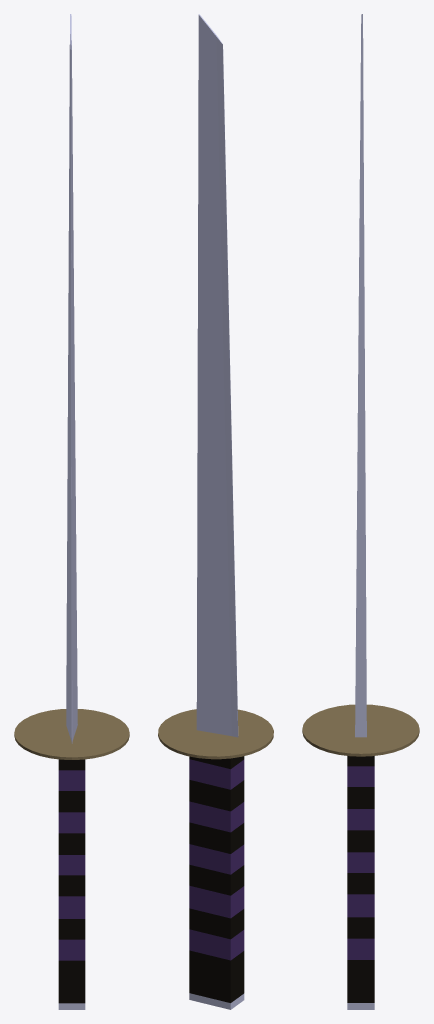
The model's file is Katana.glb.
3 renders of one model, left to right at view 1: azimuth 90°, elevation 25°; view 2: azimuth 150°, elevation 25°; view 3: azimuth 270°, elevation 25°, orthographic.
Visible parts, largest first — view 1: Katana; view 2: Katana; view 3: Katana.
Part boxes in pixels (box(x1,y1,x2,y2)): Katana: box(14, 14, 129, 1009); Katana: box(158, 14, 273, 1009); Katana: box(302, 14, 419, 1009).
Bounding box in the file's own units: 0.0988 × 0.9232 × 0.0988.
